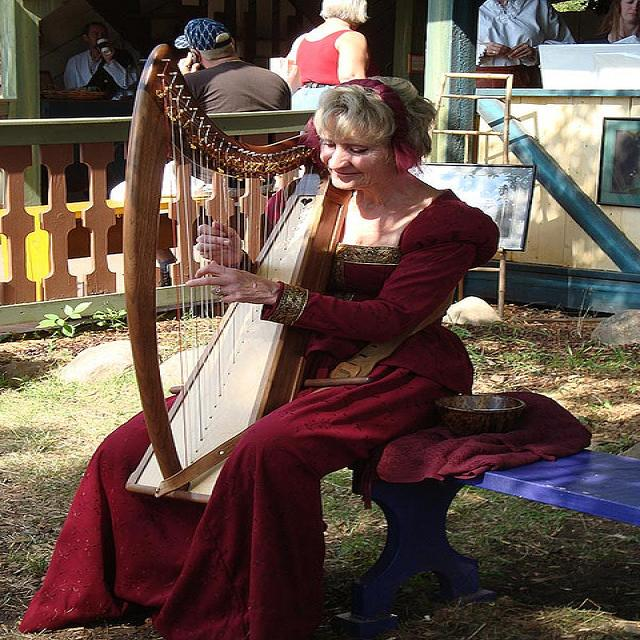harp: (122, 44, 340, 509)
